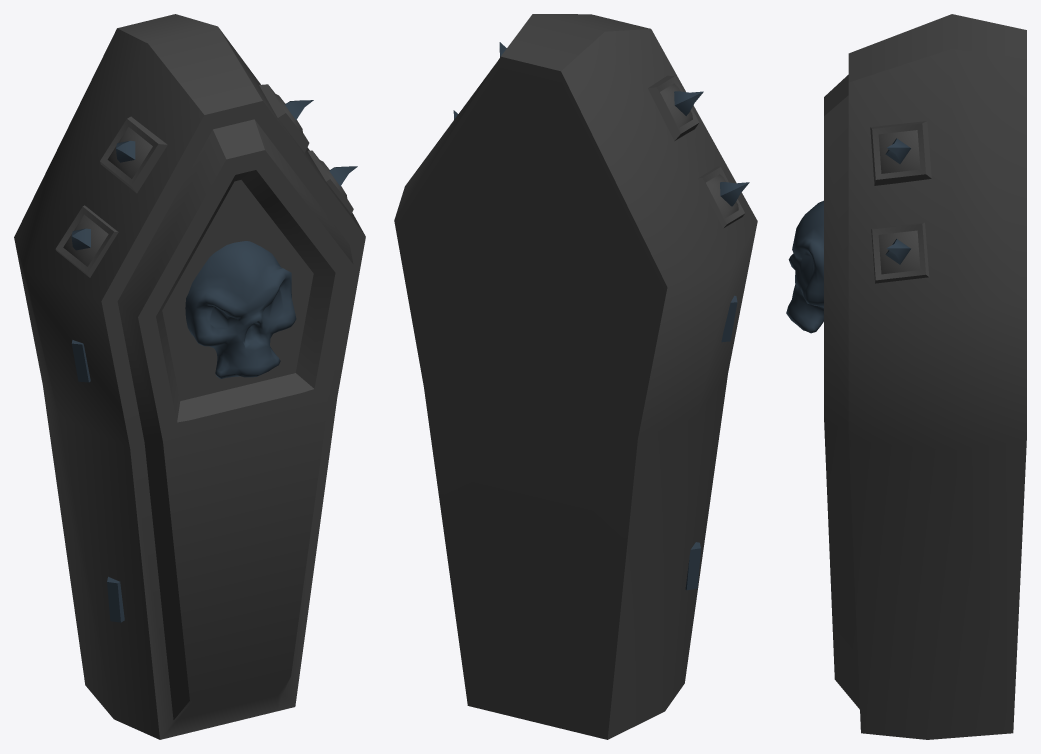
The model's file is CH_CE_prop_Sarcophagus_Hell.FBX.
The picture shows the model from 3 angles, left to right: view 1: azimuth 30°, elevation 25°; view 2: azimuth 150°, elevation 25°; view 3: azimuth 270°, elevation 25°; orthographic projection. The views are drawn at different scales.
Parts seen in each view (by area): view 1: CH_CE_prop_Sarcophagus_Hell; view 2: CH_CE_prop_Sarcophagus_Hell; view 3: CH_CE_prop_Sarcophagus_Hell.
Part boxes in pixels (bbox=[...]): CH_CE_prop_Sarcophagus_Hell: bbox=[14, 14, 365, 739]; CH_CE_prop_Sarcophagus_Hell: bbox=[394, 14, 757, 739]; CH_CE_prop_Sarcophagus_Hell: bbox=[786, 14, 1026, 739].
Bounding box in the file's own units: 127 × 250 × 81.6.
